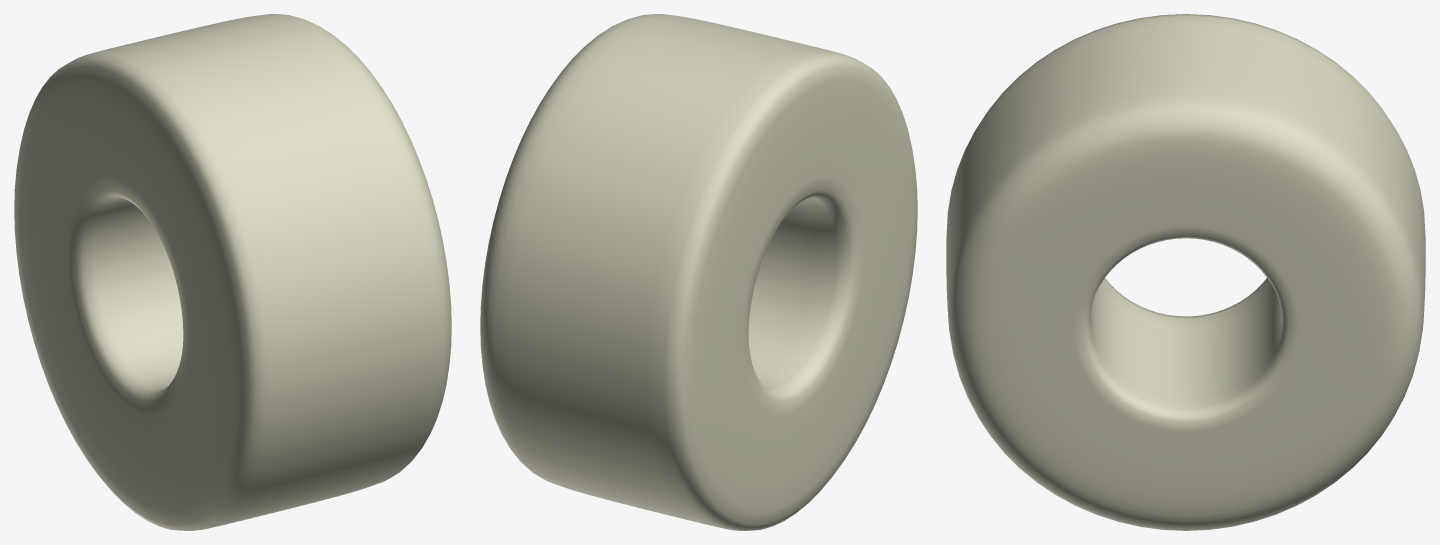
File: retro-game-console-connector.fbx
3 renders of one model, left to right at view 1: azimuth 30°, elevation 25°; view 2: azimuth 150°, elevation 25°; view 3: azimuth 270°, elevation 25°, orthographic. The views are drawn at different scales.
Parts seen in each view (by area): view 1: Circle.002; view 2: Circle.002; view 3: Circle.002.
Part boxes in pixels (<box>): Circle.002: <box>14,14,451,530</box>; Circle.002: <box>480,14,917,530</box>; Circle.002: <box>946,14,1425,530</box>.
Size of the model in its own units: 10.82 by 21.13 by 21.13.
